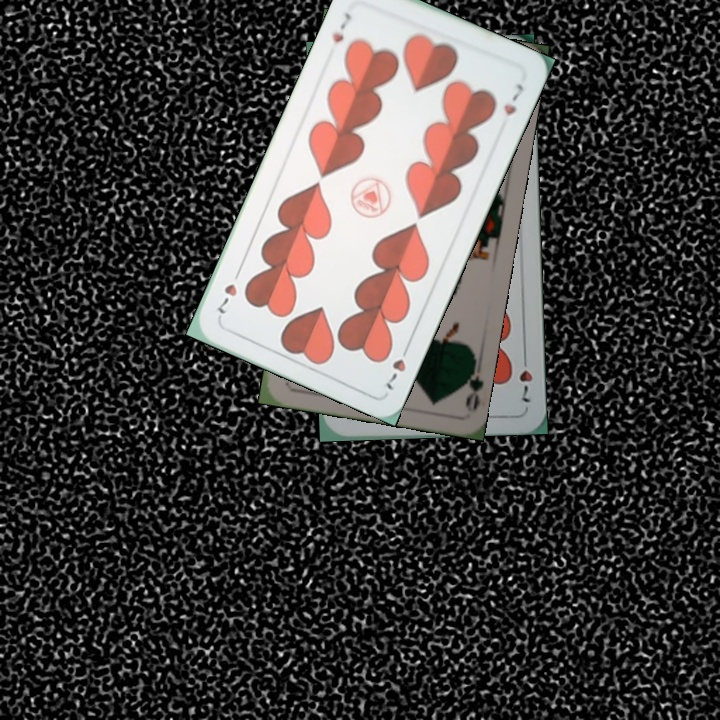GO: (456, 352, 485, 413)
H7: (382, 338, 414, 393), (515, 349, 535, 405), (328, 8, 354, 46)
